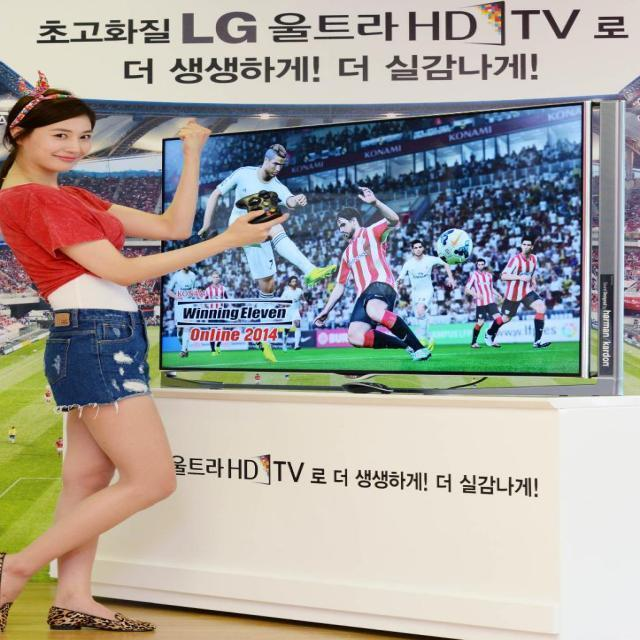ball: (435, 229, 473, 266)
